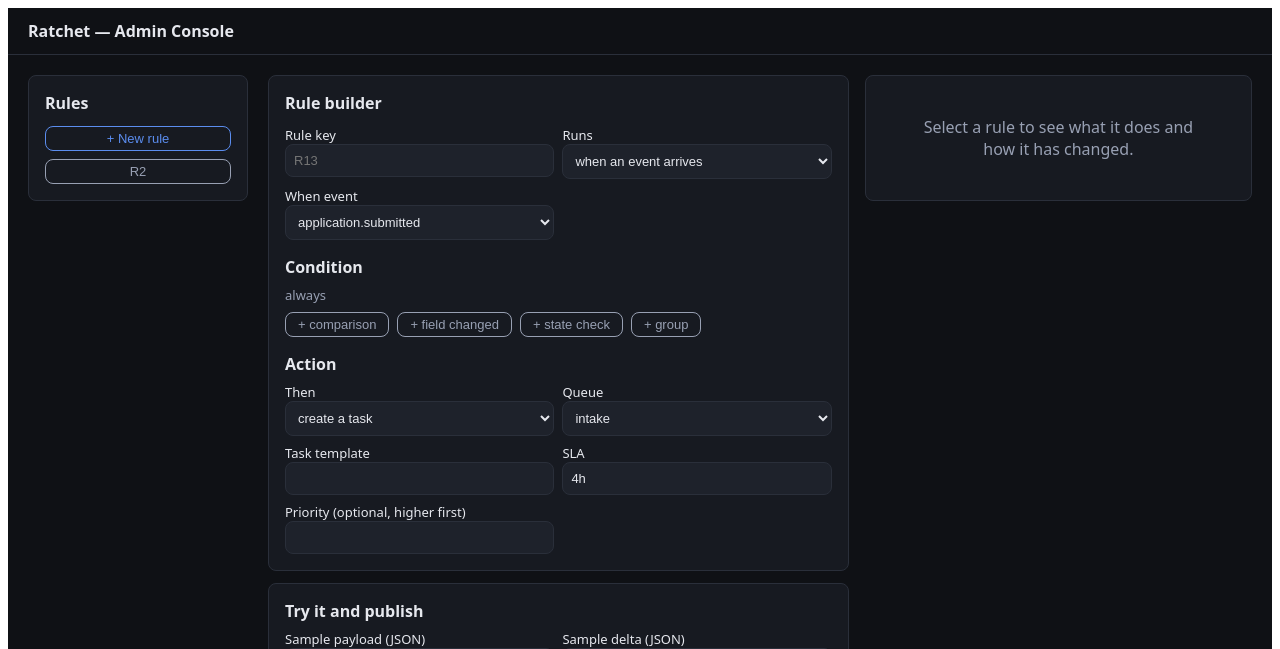
Scenario: a selected rule shows its recent decisions
The width and height of the screenshot is (1280, 649).
Click the button "R2": [138, 172] box [45,159,231,184]
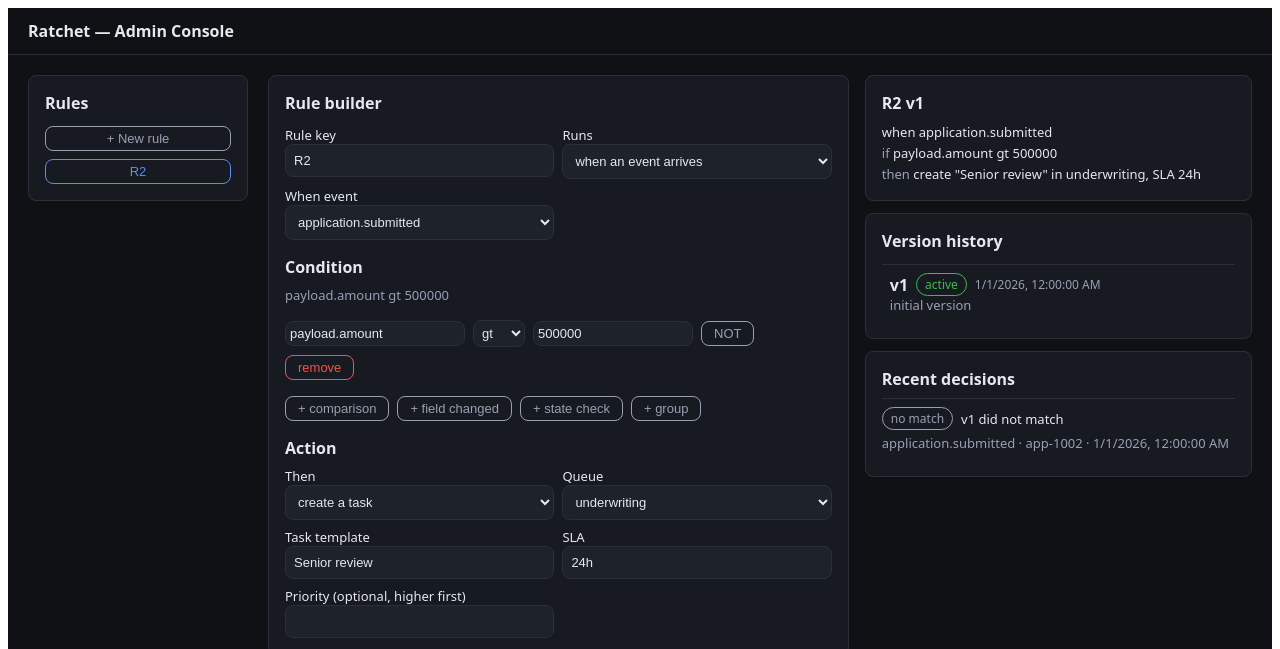
expect the text "Recent decisions" is shown: met, box [882,368,1015,390]
expect the text "no match" is shown: met, box [882,407,953,430]
expect the text "application.submitted · app-1002 · 1/1/2026, 12:00:00 AM" is shown: met, box [882,434,1235,452]
